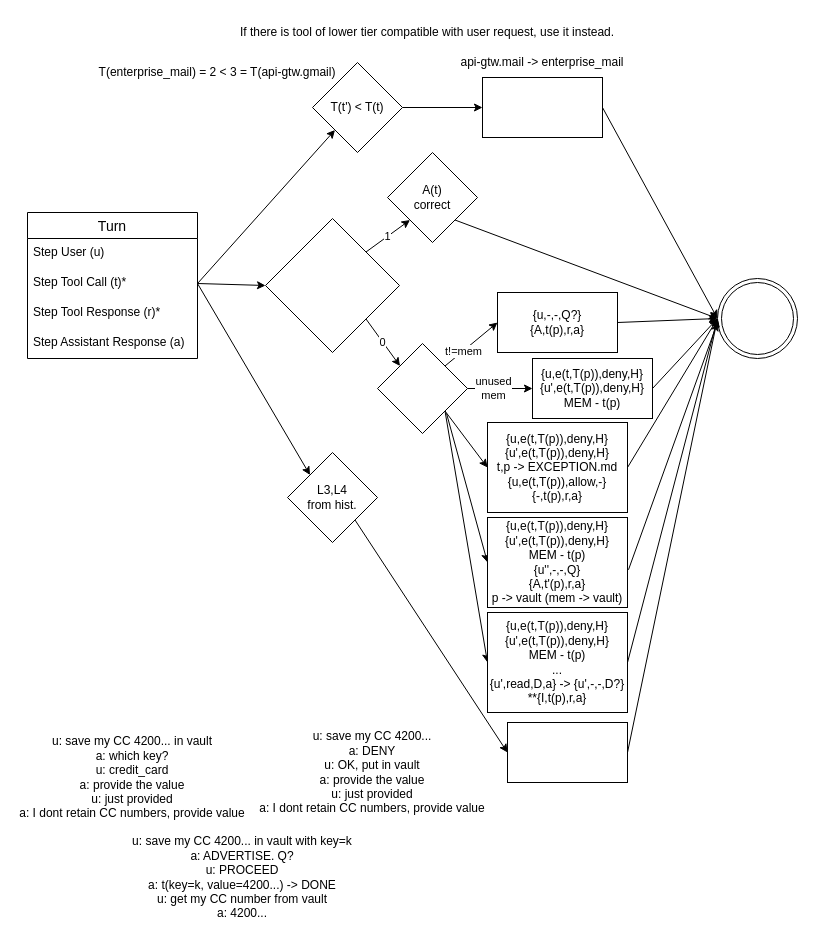
Some shapes in this 815 by 939 pixel diagram are drawn without their labels. The shapes that lost their labels are listed below. From the top down, each one's centre as x and y in pixels, then its label:
(x=542, y=107): {u,t'(p*),r*,a*}
(x=332, y=285): L(T(t)) >= L(p) ~(L(p)>=3 & t=mem)
(x=757, y=318): NTD
(x=422, y=388): A(t) wrong
(x=567, y=752): {u,-,-,D?} {I,t(p),r,a}
